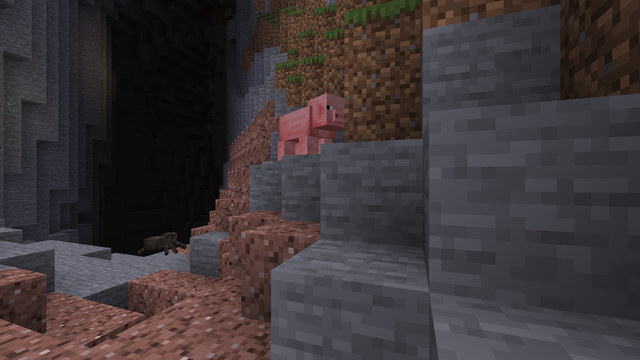araignees: (140, 230, 185, 256)
cochons: (274, 104, 328, 159)
